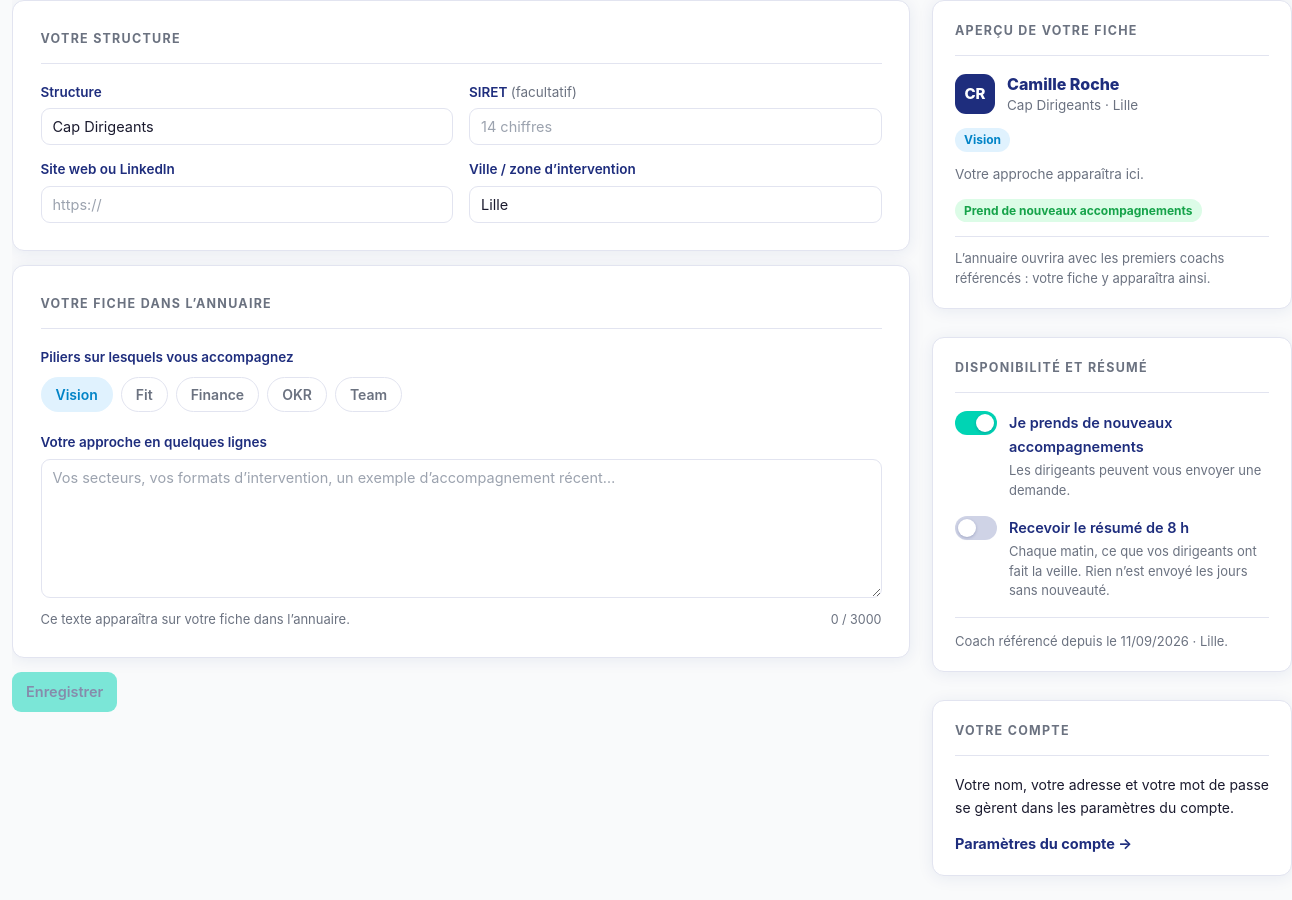
Test: Ma fiche coach › montre l’aperçu de la fiche au fil de la saisie
Expected: the text "Cap Dirigeants · Lille" is shown, left=1007, top=95, right=1138, bottom=116
Step 1. Replace the text in the text box labelled "Votre approche en quelques lignes" with "Mon approche" → [461, 528], box left=40, top=459, right=882, bottom=598
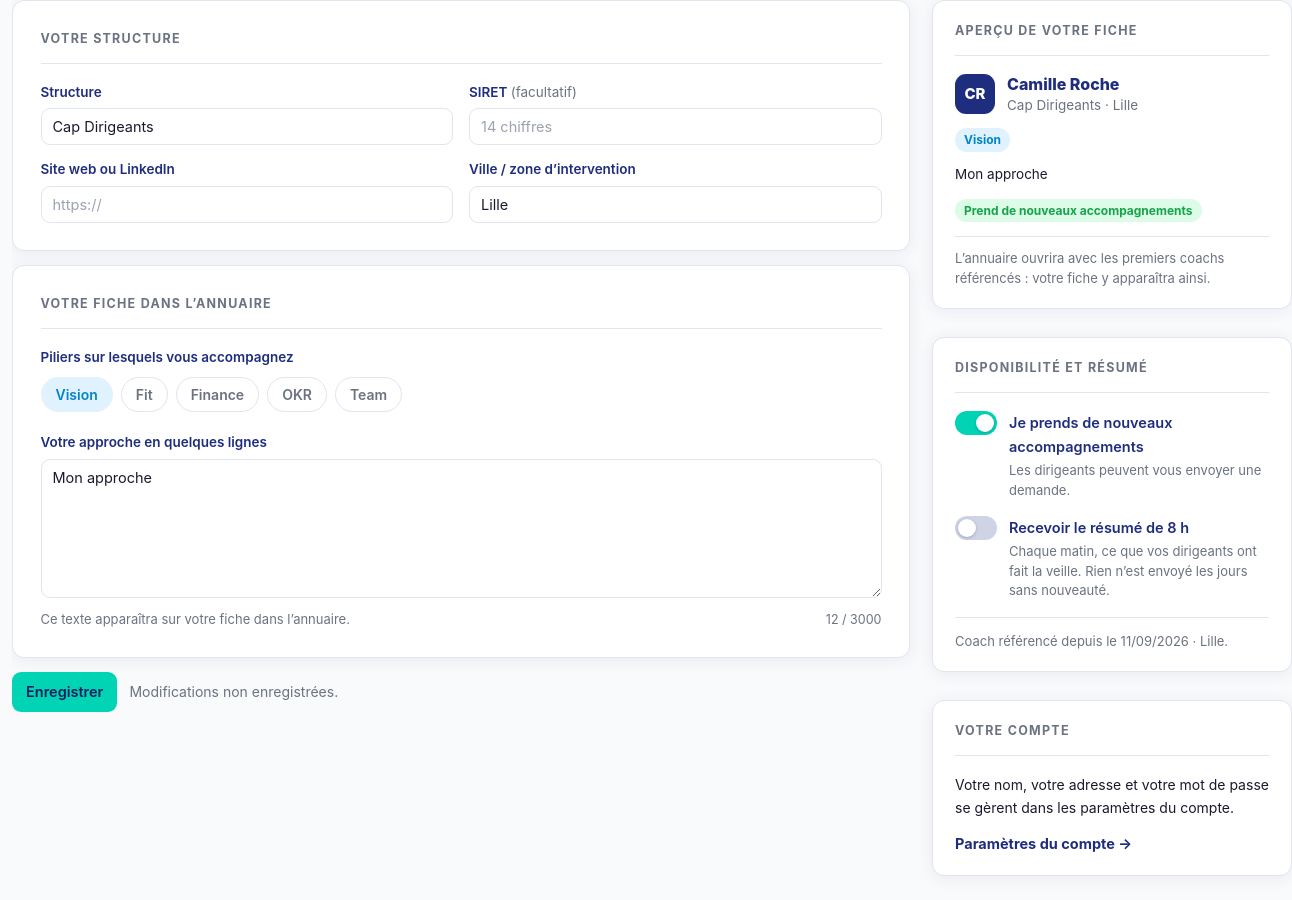
Expected: the text "Prend de nouveaux accompagnements" is shown, left=955, top=199, right=1202, bottom=222
Expected: the text "Mon approche" is shown, left=955, top=166, right=1048, bottom=182
